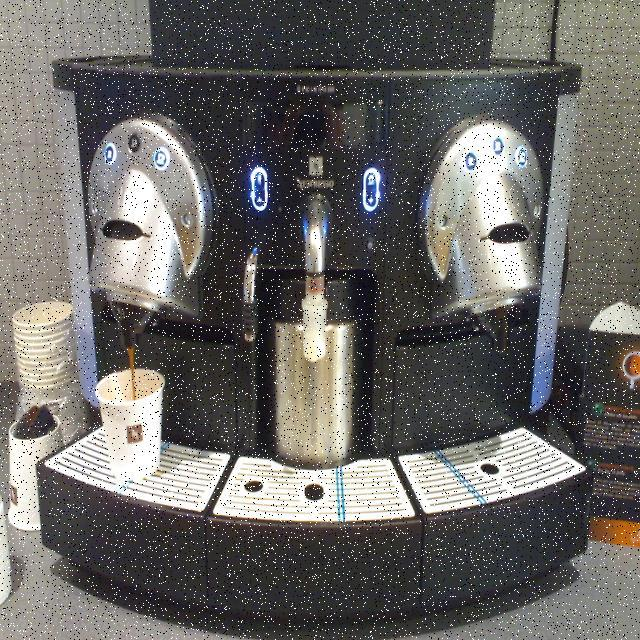Coffee-Machine: (27, 1, 597, 634)
